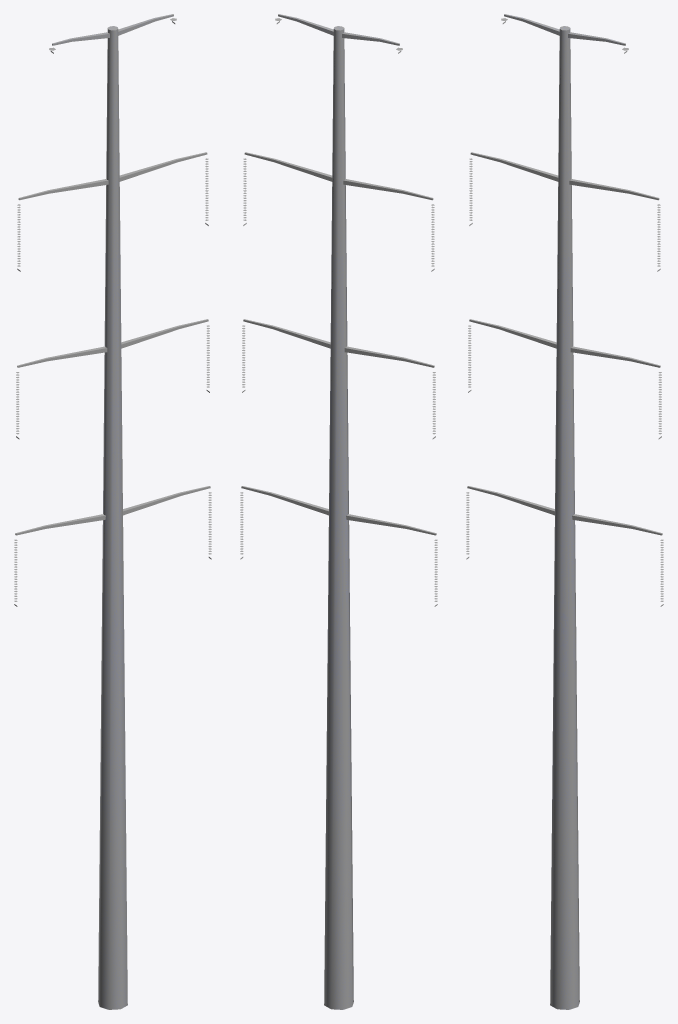
Rendered from ConcretePole.dae.
The picture shows the model from 3 angles, left to right: view 1: azimuth 30°, elevation 25°; view 2: azimuth 150°, elevation 25°; view 3: azimuth 330°, elevation 25°; orthographic projection.
Visible parts, largest first — view 1: pole_140, arm_bottom (×6); view 2: pole_140, arm_bottom (×6); view 3: pole_140, arm_bottom (×6).
Part boxes in pixels (x1,y1,x2,y2): pole_140: [98, 26, 127, 1009]; arm_bottom (×6): [14, 152, 211, 606]; pole_140: [324, 26, 353, 1009]; arm_bottom (×6): [240, 152, 437, 606]; pole_140: [550, 26, 579, 1009]; arm_bottom (×6): [466, 152, 663, 606].
Size of the model in its own units: 356 by 48 by 1680.
